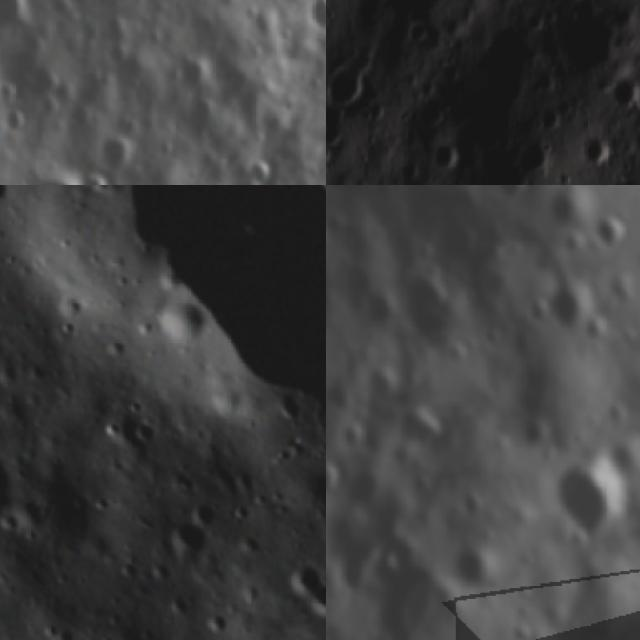crater: (41, 185, 326, 464), (541, 444, 627, 544), (555, 0, 626, 95), (0, 423, 42, 563), (369, 0, 500, 41), (164, 506, 233, 576), (397, 398, 458, 460), (274, 543, 326, 605), (445, 529, 497, 589), (359, 357, 406, 415), (96, 130, 146, 178), (422, 138, 466, 184), (589, 207, 630, 254), (520, 126, 557, 176), (570, 133, 618, 166), (0, 0, 28, 41), (485, 185, 536, 202), (326, 449, 344, 497), (308, 0, 326, 42), (0, 185, 20, 216), (73, 172, 116, 185), (29, 178, 88, 185)
